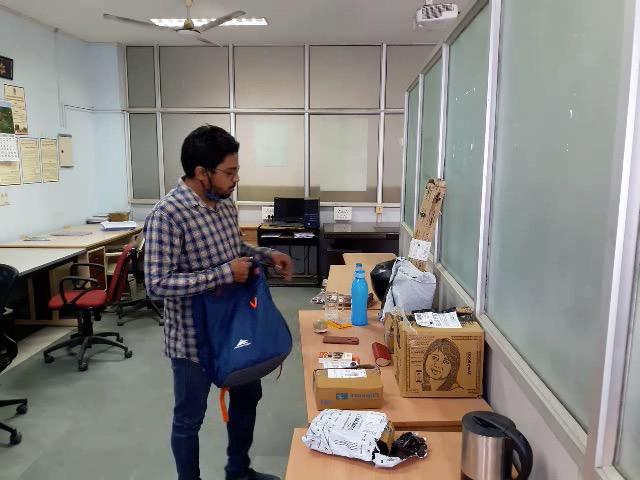shoplifting: (129, 239, 348, 402)
